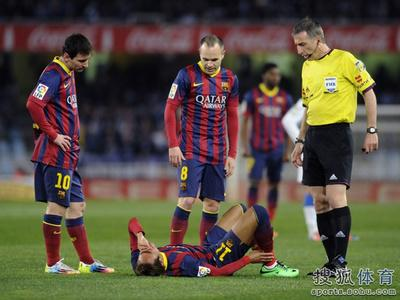down: (122, 197, 301, 278)
up: (285, 12, 382, 279), (19, 28, 117, 276), (163, 29, 240, 240), (240, 59, 289, 217)
